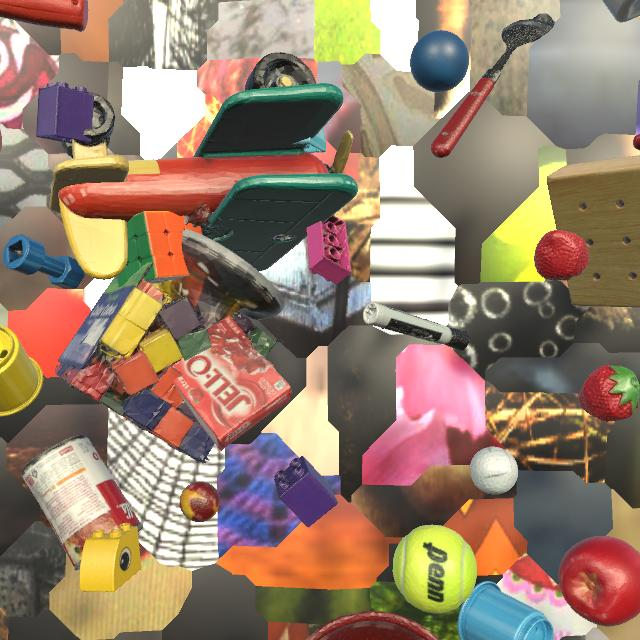ycb_005_tomato_soup_can: (21, 435, 143, 571)
ycb_009_gelatin_box: (173, 315, 292, 451)
ycb_012_strawberry: (579, 365, 640, 422), (534, 230, 590, 281)
ycb_013_apple: (558, 536, 640, 626)
ycb_017_orange: (0, 130, 2, 152)
